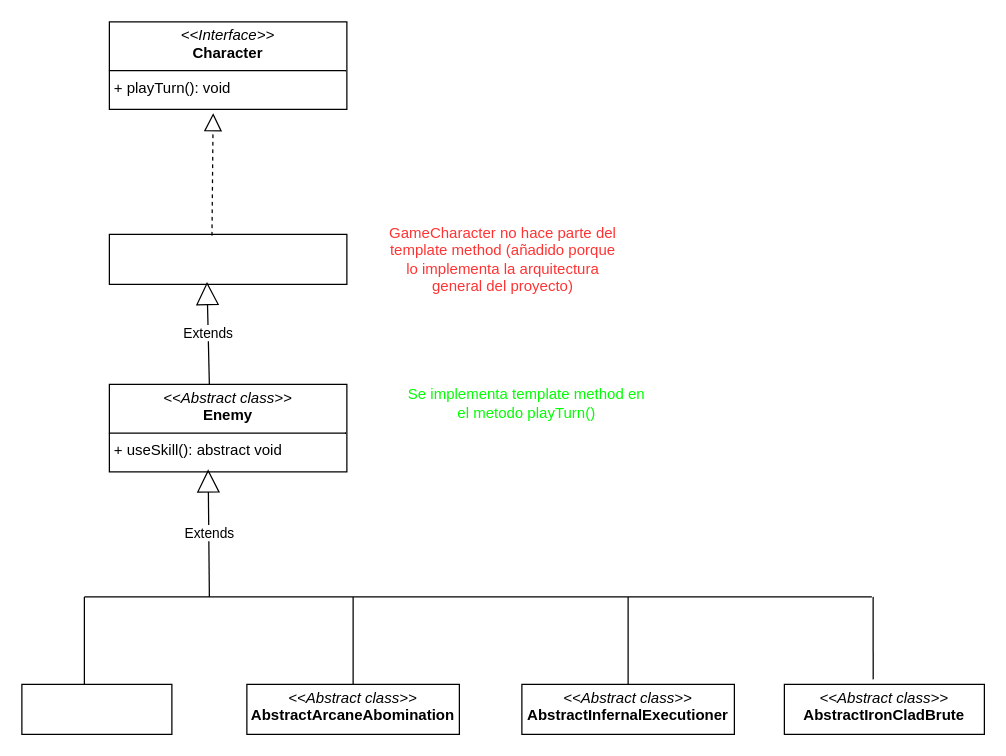
This 1006x756 diagram has some shape labels left out. The shapes that lost their labels are listed below. From the top down, each one's centre as x and y in pixels, then its label:
At point 227,258: "<<Abstract class>> GameCharacter".
At point 96,708: "<<Abstract class>> AbstractBoss".
